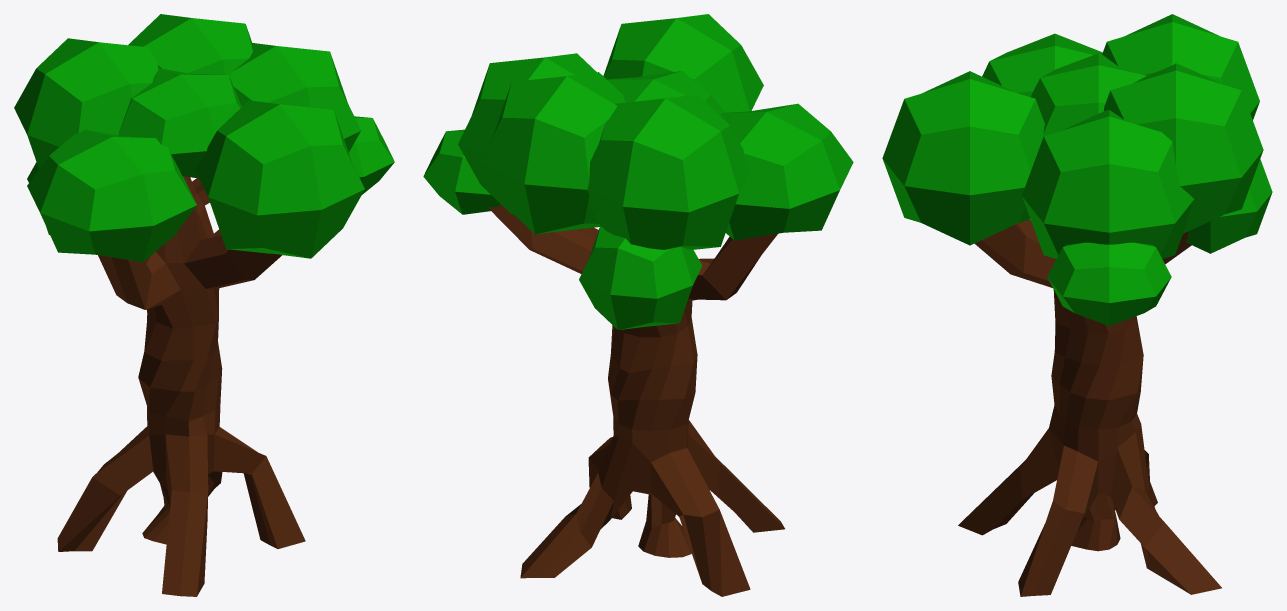
The model's file is Trees03.obj.
3 views of the same model, side by side, from view 1: azimuth 30°, elevation 25°; view 2: azimuth 150°, elevation 25°; view 3: azimuth 270°, elevation 25° (orthographic). The views are drawn at different scales.
Parts seen in each view (by area): view 1: Tree03_Circle; view 2: Tree03_Circle; view 3: Tree03_Circle.
Part boxes in pixels (box(x1,y1,x2,y2)): Tree03_Circle: box(14, 14, 394, 596); Tree03_Circle: box(423, 14, 853, 596); Tree03_Circle: box(882, 14, 1272, 596).
Bounding box in the file's own units: 9.47 × 11.68 × 8.17.
